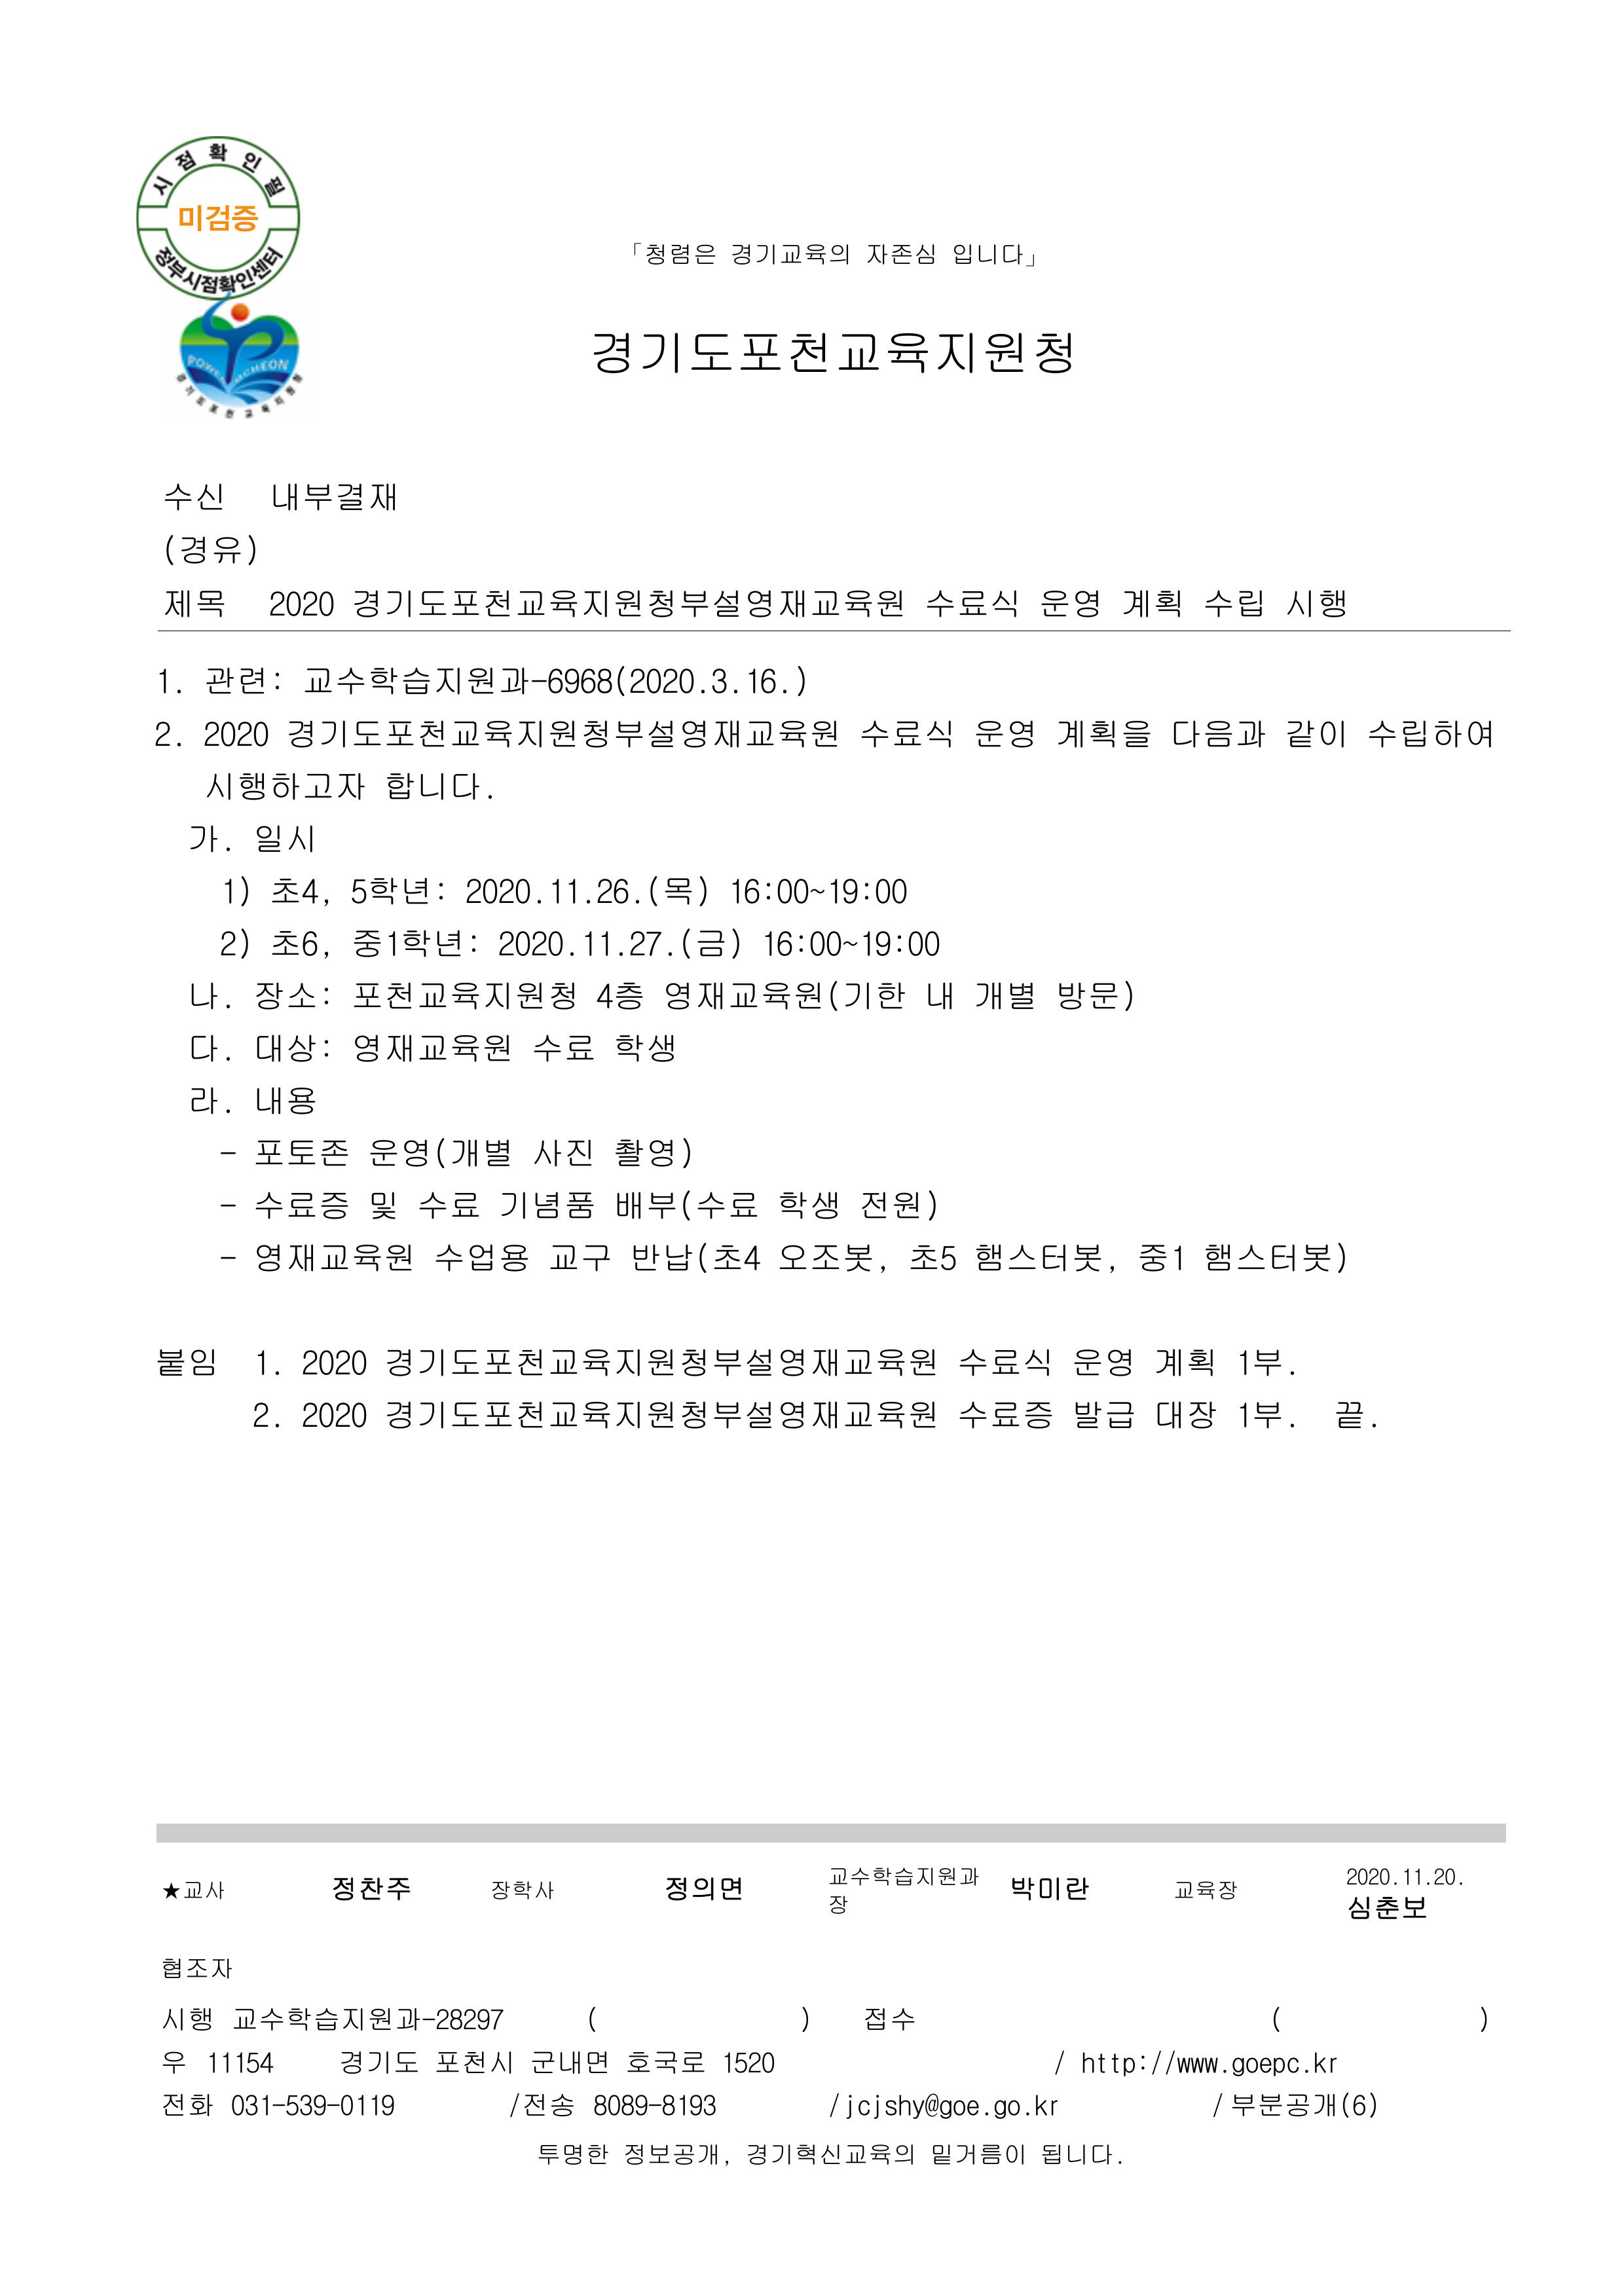t: (591, 329, 1076, 380), (283, 713, 838, 754), (352, 583, 903, 624), (383, 1395, 935, 1434), (383, 1344, 935, 1379), (659, 975, 907, 1014), (301, 662, 545, 699), (348, 975, 576, 1014), (545, 662, 735, 699), (761, 924, 944, 961), (494, 924, 671, 961), (728, 872, 910, 907), (228, 2000, 394, 2037), (352, 1028, 513, 1065), (253, 1241, 415, 1278), (366, 1133, 513, 1172), (1200, 1237, 1348, 1276), (610, 1186, 763, 1223), (1151, 1395, 1295, 1434), (742, 2137, 917, 2168), (1225, 2088, 1380, 2123), (627, 1237, 763, 1276), (972, 1237, 1107, 1276), (269, 476, 397, 517), (1362, 717, 1494, 756), (838, 2089, 982, 2123), (352, 924, 480, 961), (1169, 713, 1269, 754), (953, 1395, 1055, 1434), (1055, 713, 1151, 754), (383, 766, 487, 803), (828, 1864, 982, 1889), (494, 1186, 596, 1223), (394, 2000, 506, 2033), (251, 1186, 352, 1223), (953, 1344, 1055, 1379), (921, 583, 1018, 620), (269, 766, 366, 803), (431, 1241, 531, 1276), (779, 1241, 879, 1276), (162, 531, 258, 566), (856, 713, 953, 749), (255, 1133, 352, 1169), (620, 2137, 724, 2168), (613, 1133, 696, 1172), (348, 875, 448, 907), (545, 875, 645, 907), (176, 200, 258, 237), (251, 1028, 334, 1065), (856, 1186, 939, 1223), (204, 662, 283, 699), (251, 979, 334, 1014), (1055, 979, 1137, 1014), (731, 244, 845, 269), (283, 2095, 397, 2119), (329, 1871, 411, 1905), (663, 1871, 745, 1905), (1007, 1871, 1090, 1905), (1345, 1889, 1427, 1922), (462, 875, 548, 907), (337, 2047, 424, 2079), (642, 872, 710, 910), (1069, 1395, 1137, 1434), (1283, 713, 1348, 754), (297, 1344, 369, 1379), (742, 662, 810, 699), (673, 924, 742, 961), (610, 1028, 678, 1065), (773, 1186, 842, 1223), (534, 2137, 613, 2168), (431, 2047, 517, 2075), (265, 872, 334, 907), (1151, 1344, 1220, 1379), (162, 583, 227, 620), (1118, 583, 1183, 620), (1200, 583, 1265, 620), (1283, 583, 1348, 620), (204, 766, 269, 803), (531, 1028, 596, 1065), (932, 2144, 1028, 2168), (972, 717, 1035, 754), (417, 1186, 480, 1223), (527, 2047, 610, 2075), (624, 2047, 707, 2075), (1069, 1344, 1134, 1379), (265, 589, 337, 620), (200, 717, 272, 749), (297, 1399, 369, 1430), (642, 239, 717, 269), (972, 979, 1035, 1014), (251, 1082, 315, 1118), (155, 1344, 218, 1379), (506, 2088, 576, 2119), (1040, 583, 1100, 620), (953, 244, 1040, 269), (269, 924, 327, 961), (255, 821, 315, 856), (165, 480, 227, 513), (204, 2047, 276, 2075), (1079, 2051, 1151, 2079), (1234, 1344, 1290, 1379), (548, 1241, 610, 1272), (656, 2089, 721, 2119), (591, 979, 645, 1014), (531, 1137, 591, 1169), (863, 244, 939, 269), (1134, 1241, 1186, 1276), (1044, 2144, 1118, 2168), (1172, 1879, 1241, 1905), (993, 2096, 1062, 2123), (589, 2089, 649, 2119), (861, 2000, 914, 2033), (162, 1958, 232, 1982), (1230, 2054, 1301, 2079), (907, 1241, 961, 1272), (490, 1879, 555, 1905), (186, 821, 232, 856), (162, 2089, 214, 2119), (1330, 1395, 1369, 1434), (186, 1028, 227, 1065), (162, 2005, 214, 2033), (227, 2089, 276, 2119), (165, 1882, 228, 1905), (721, 2051, 779, 2075), (218, 924, 255, 961), (186, 1082, 227, 1116), (218, 875, 258, 907), (186, 979, 227, 1010), (1165, 2054, 1223, 2075), (366, 1186, 397, 1223), (1345, 1868, 1396, 1889), (921, 979, 953, 1010), (258, 1351, 283, 1378), (156, 720, 179, 749), (255, 1402, 276, 1430), (1431, 1868, 1459, 1889), (1313, 2054, 1341, 2075), (1403, 1868, 1427, 1889), (165, 2051, 186, 2075), (156, 671, 176, 696), (828, 1896, 849, 1917)
